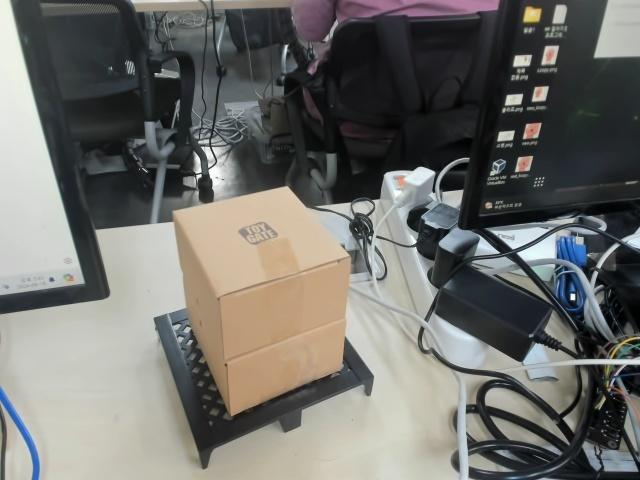box: (151, 183, 377, 470)
